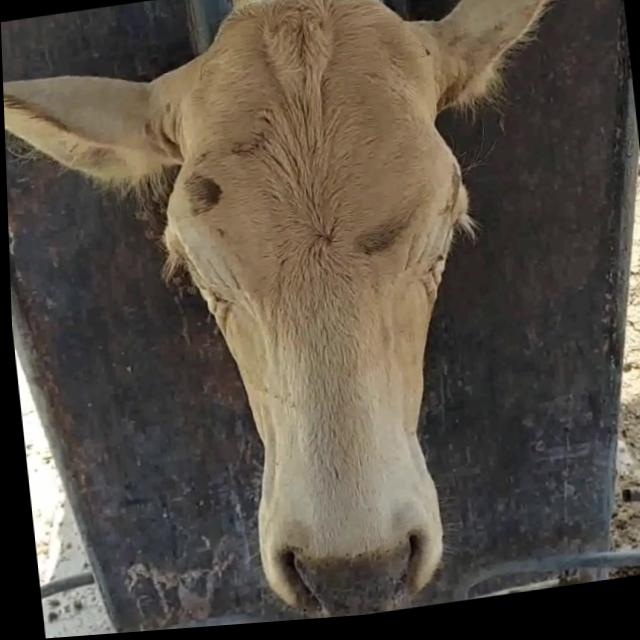cowFace: (145, 0, 509, 632)
